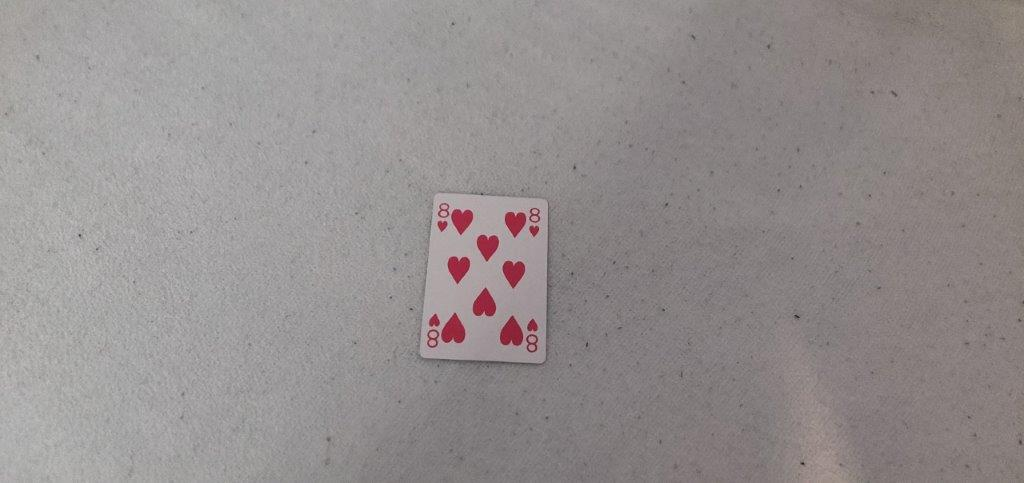8H: (434, 200, 451, 237), (527, 203, 543, 240)
